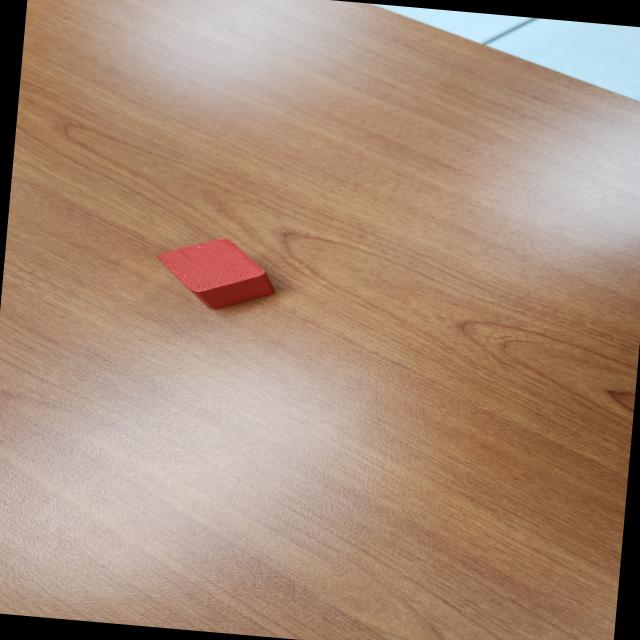red: (150, 230, 280, 317)
